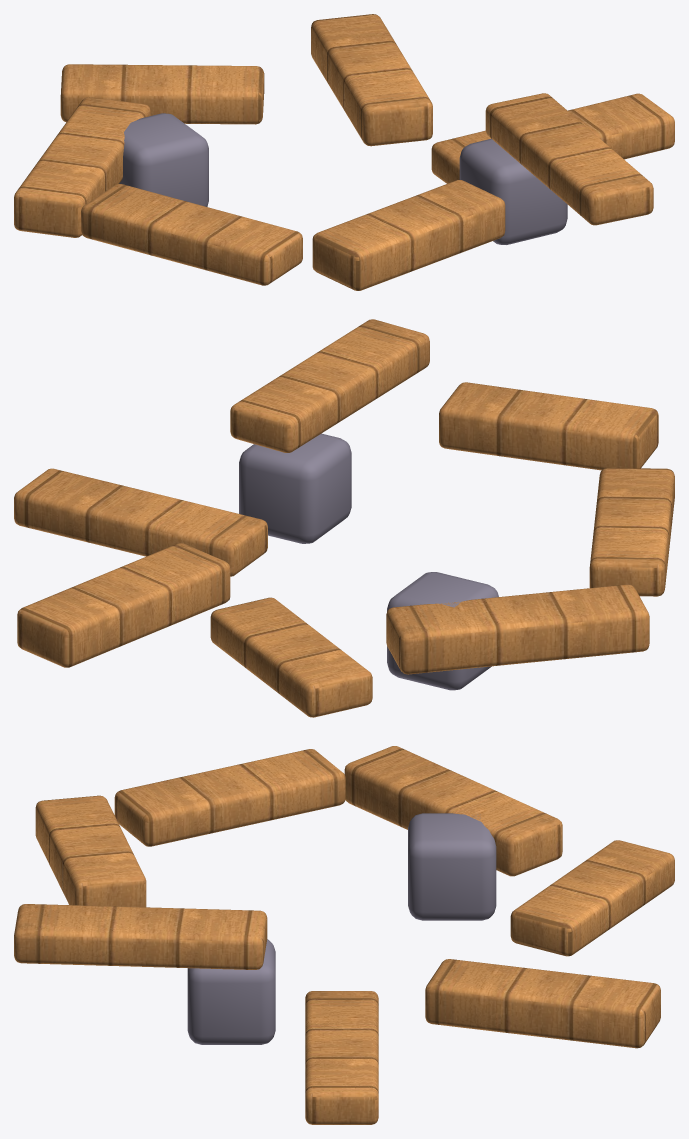
The model's file is crate_wood_fragments.glb.
The picture shows the model from 3 angles, top to bottom: view 1: azimuth 30°, elevation 25°; view 2: azimuth 150°, elevation 25°; view 3: azimuth 270°, elevation 25°; orthographic projection. The views are drawn at different scales.
Visible parts, largest first — view 1: crate_frag_4, crate_frag_5, crate_frag_6, crate_frag_1, crate_frag_3, crate_frag_2, crate_frag_iron_1, crate_frag_iron_0, crate_frag_0; view 2: crate_frag_3, crate_frag_1, crate_frag_5, crate_frag_0, crate_frag_6, crate_frag_2, crate_frag_iron_0, crate_frag_4, crate_frag_iron_1; view 3: crate_frag_1, crate_frag_6, crate_frag_4, crate_frag_3, crate_frag_2, crate_frag_0, crate_frag_5, crate_frag_iron_1, crate_frag_iron_0.
Boxes of the visible parts, x1=… form: crate_frag_4: x1=81, y1=184, x2=302, y2=285; crate_frag_5: x1=312, y1=180, x2=505, y2=290; crate_frag_6: x1=485, y1=93, x2=653, y2=225; crate_frag_1: x1=311, y1=14, x2=432, y2=146; crate_frag_3: x1=14, y1=97, x2=150, y2=237; crate_frag_2: x1=60, y1=64, x2=264, y2=124; crate_frag_iron_1: x1=119, y1=113, x2=208, y2=206; crate_frag_iron_0: x1=459, y1=138, x2=567, y2=244; crate_frag_0: x1=431, y1=93, x2=674, y2=183; crate_frag_3: x1=386, y1=584, x2=649, y2=674; crate_frag_1: x1=17, y1=543, x2=230, y2=667; crate_frag_5: x1=439, y1=382, x2=658, y2=470; crate_frag_0: x1=14, y1=468, x2=267, y2=576; crate_frag_6: x1=230, y1=319, x2=429, y2=452; crate_frag_2: x1=210, y1=597, x2=372, y2=717; crate_frag_iron_0: x1=239, y1=433, x2=351, y2=543; crate_frag_4: x1=589, y1=467, x2=674, y2=596; crate_frag_iron_1: x1=387, y1=572, x2=498, y2=690; crate_frag_1: x1=425, y1=959, x2=660, y2=1048; crate_frag_6: x1=14, y1=904, x2=267, y2=969; crate_frag_4: x1=114, y1=749, x2=345, y2=846; crate_frag_3: x1=344, y1=746, x2=562, y2=876; crate_frag_2: x1=510, y1=840, x2=674, y2=956; crate_frag_0: x1=305, y1=991, x2=378, y2=1124; crate_frag_5: x1=35, y1=795, x2=146, y2=907; crate_frag_iron_1: x1=408, y1=813, x2=496, y2=920; crate_frag_iron_0: x1=187, y1=939, x2=275, y2=1044.
Size of the model in its own units: 0.9893 by 0.175 by 0.8989.
2 materials, 1 textured.
